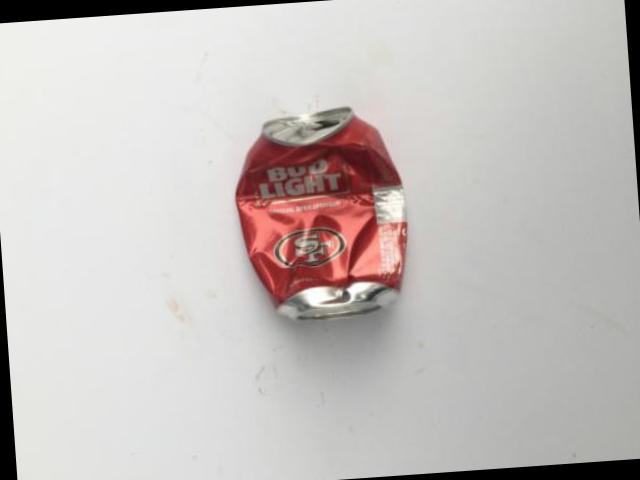metal: (233, 104, 403, 316)
